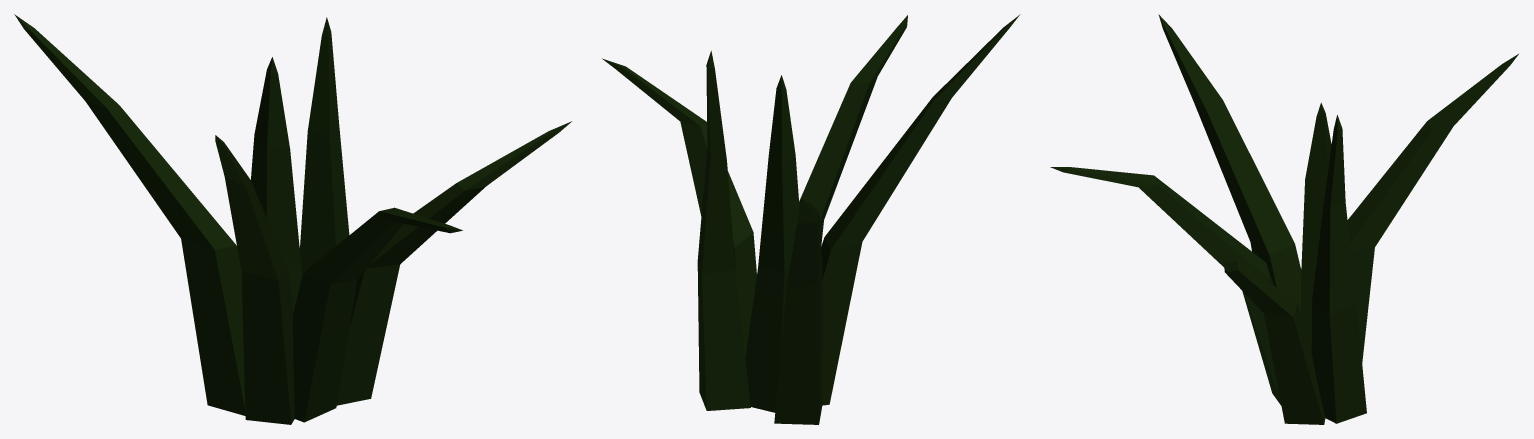
Rendered from Grass3.obj.
3 views of the same model, side by side, from view 1: azimuth 30°, elevation 25°; view 2: azimuth 150°, elevation 25°; view 3: azimuth 270°, elevation 25° (orthographic). The views are drawn at different scales.
Parts seen in each view (by area): view 1: Grass3_Cube.007; view 2: Grass3_Cube.007; view 3: Grass3_Cube.007.
Part boxes in pixels (bbox=[...]): Grass3_Cube.007: bbox=[14, 14, 571, 424]; Grass3_Cube.007: bbox=[602, 14, 1020, 424]; Grass3_Cube.007: bbox=[1050, 14, 1518, 424].
Size of the model in its own units: 2.71 by 2.44 by 3.3.
